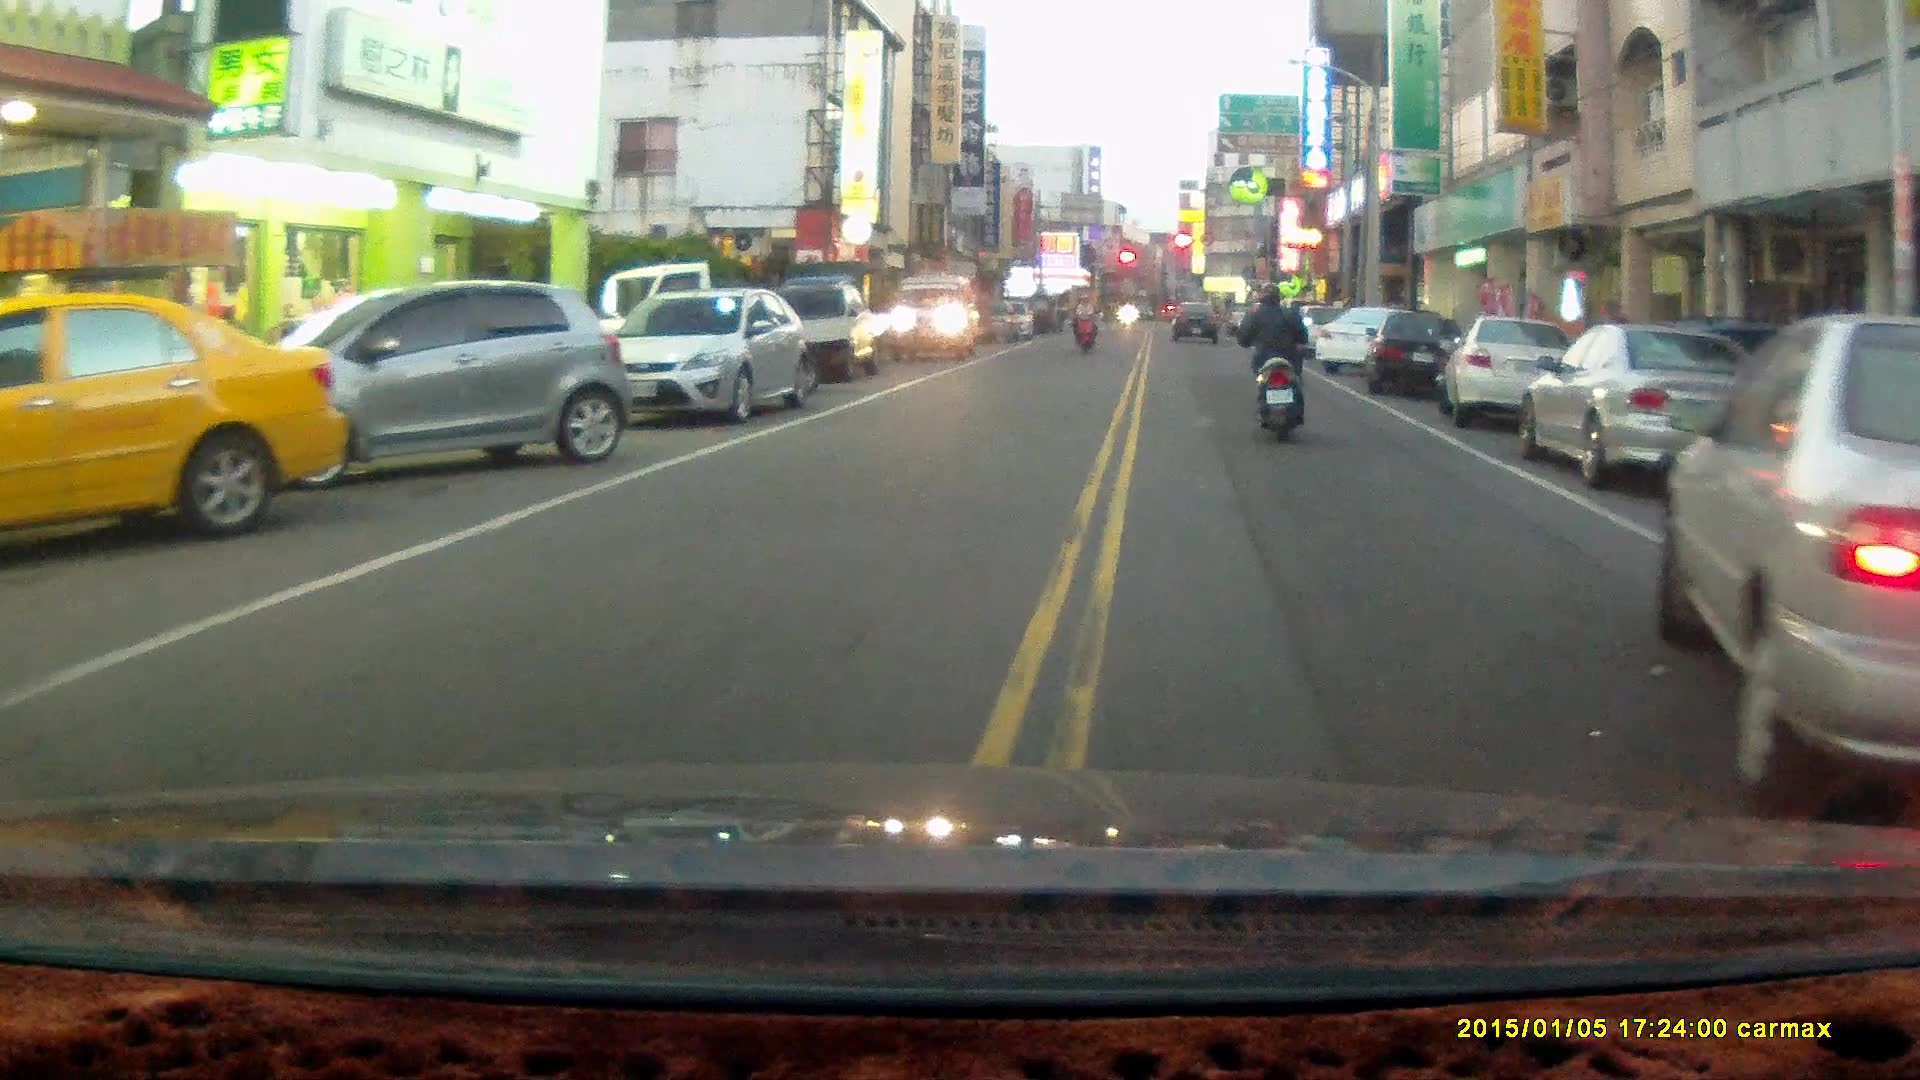rider: (1230, 279, 1305, 443), (1070, 290, 1099, 353)
vehicle: (1653, 310, 1920, 814), (1, 289, 348, 549), (232, 276, 627, 485), (1518, 318, 1762, 490), (598, 284, 819, 425), (1440, 316, 1572, 427), (760, 278, 901, 377), (894, 273, 979, 363)
